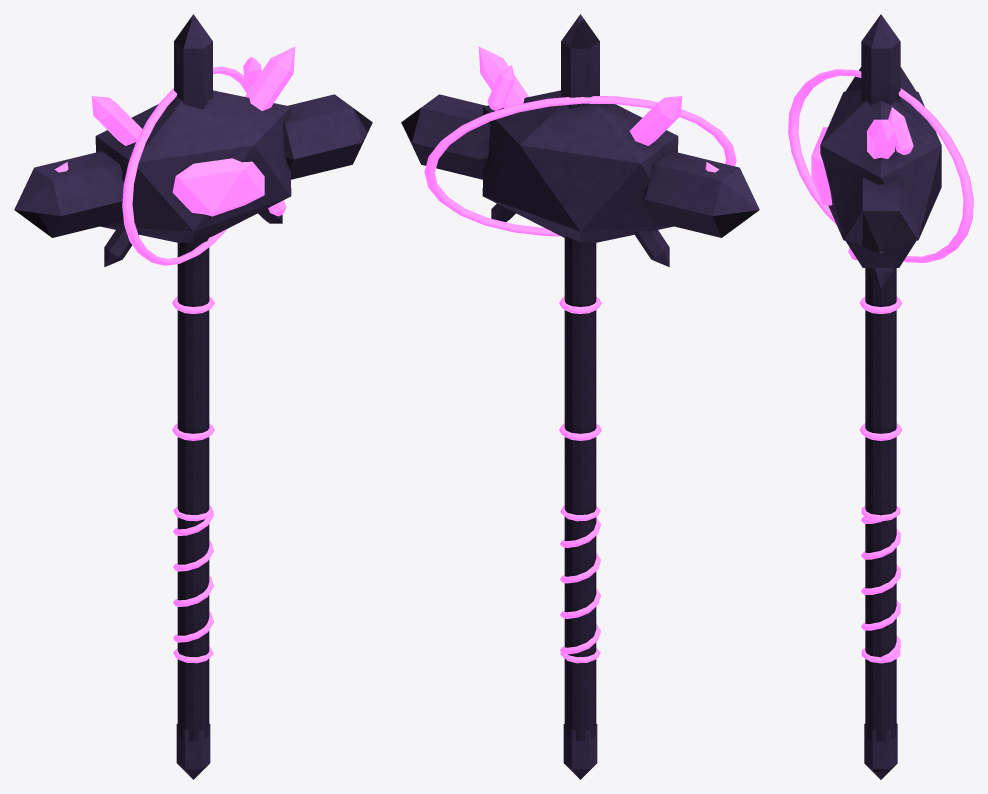
File: 12_void_heavy.fbx
3 views of the same model, side by side, from view 1: azimuth 30°, elevation 25°; view 2: azimuth 150°, elevation 25°; view 3: azimuth 270°, elevation 25° (orthographic).
Parts seen in each view (by area): view 1: Weapon; view 2: Weapon; view 3: Weapon.
Boxes of the visible parts, box(x1,y1,x2,y2) form: Weapon: box(14, 14, 372, 779); Weapon: box(401, 14, 759, 779); Weapon: box(788, 14, 973, 779).
Size of the model in its own units: 68.61 by 140 by 30.79.
2 materials, 1 textured.
